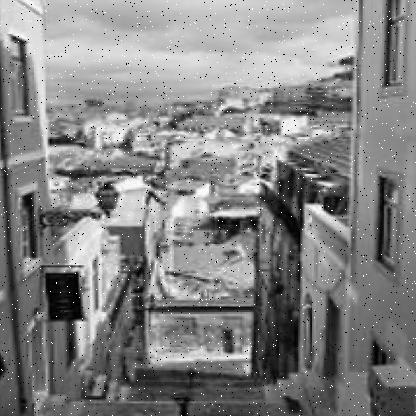stair_down: (64, 323, 283, 416)
